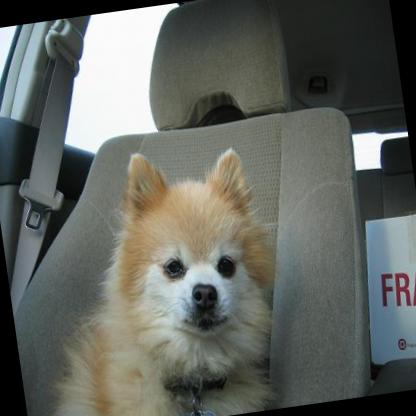Pomeranian: (13, 134, 288, 416)
